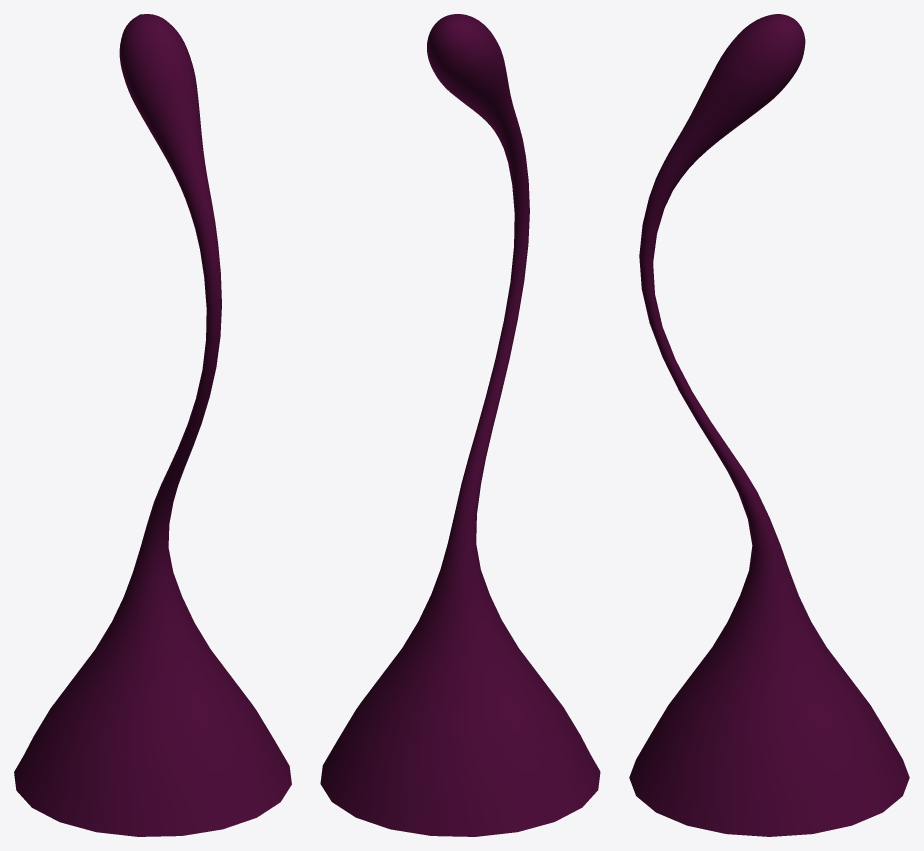
File: Steel_09.fbx
The picture shows the model from 3 angles, left to right: view 1: azimuth 30°, elevation 25°; view 2: azimuth 150°, elevation 25°; view 3: azimuth 270°, elevation 25°; orthographic projection.
Parts seen in each view (by area): view 1: pCylinder6; view 2: pCylinder6; view 3: pCylinder6.
Boxes of the visible parts, bbox=[...] form: pCylinder6: bbox=[14, 14, 291, 836]; pCylinder6: bbox=[320, 14, 600, 836]; pCylinder6: bbox=[629, 14, 909, 836].
Size of the model in its own units: 2.25 by 6.74 by 2.25.
